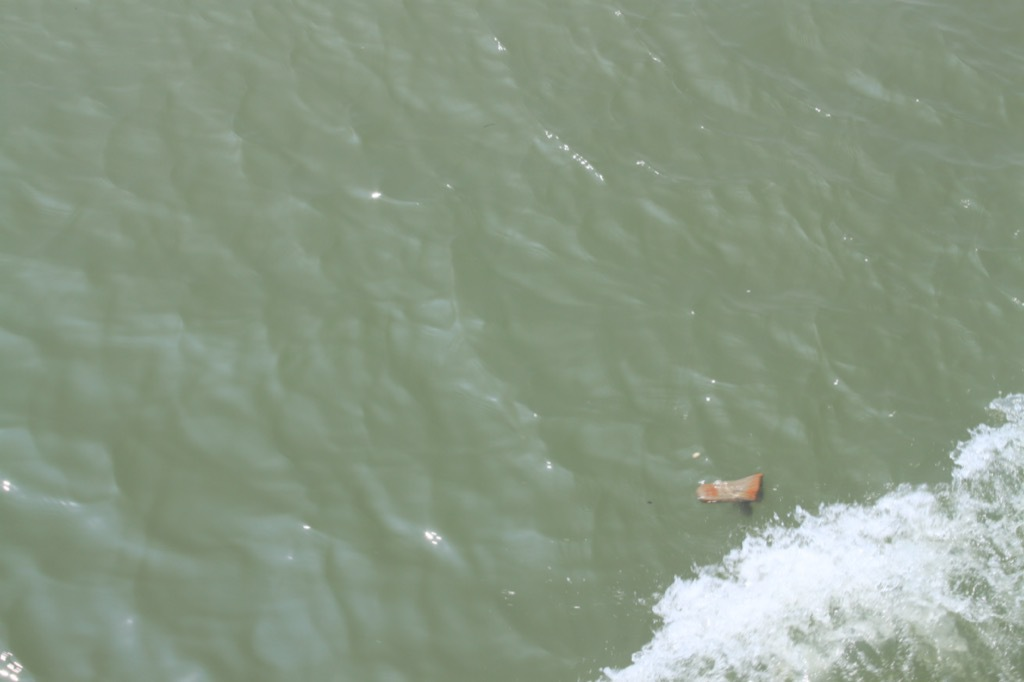organic: (641, 493, 662, 511)
plastic: (695, 464, 767, 523)
